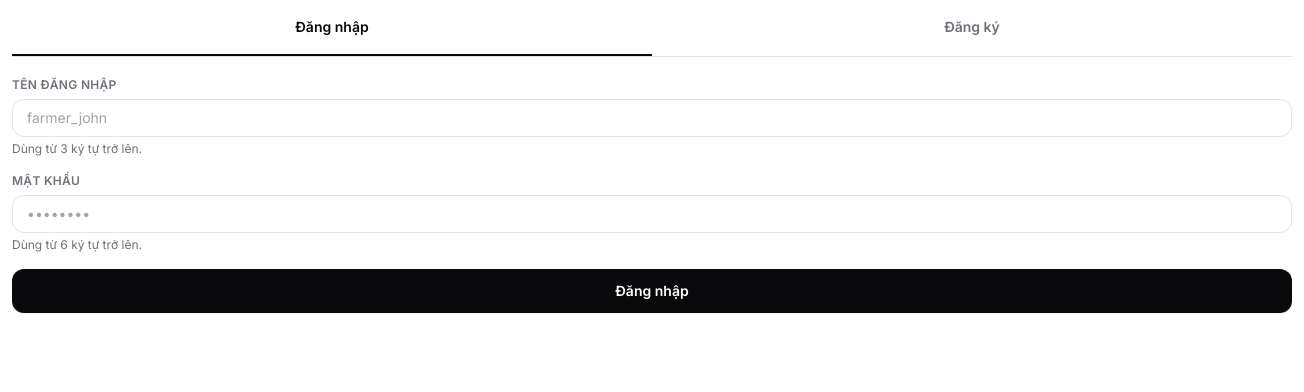
Test case: AuthForm › closes only after successful login and localizes invalid credentials
Type "farmer" into the field labelled "Tên đăng nhập" at coordinates (652, 118), box [12,99,1292,137]
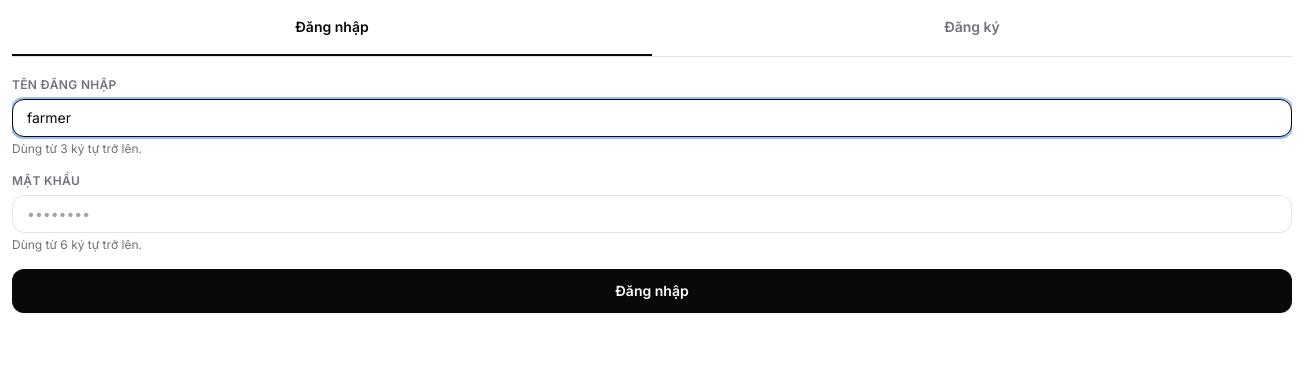
Type "secret1" into the password field labelled "Mật khẩu" at coordinates (652, 214), box [12,195,1292,233]
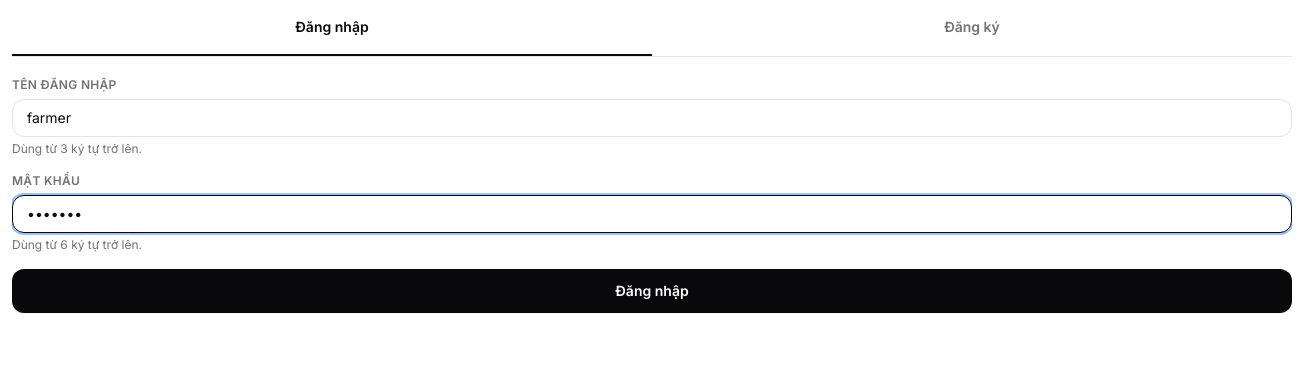
Click the button "Đăng nhập" below "Dùng từ 6 ký tự trở lên." at coordinates (652, 291), box [12,269,1292,313]
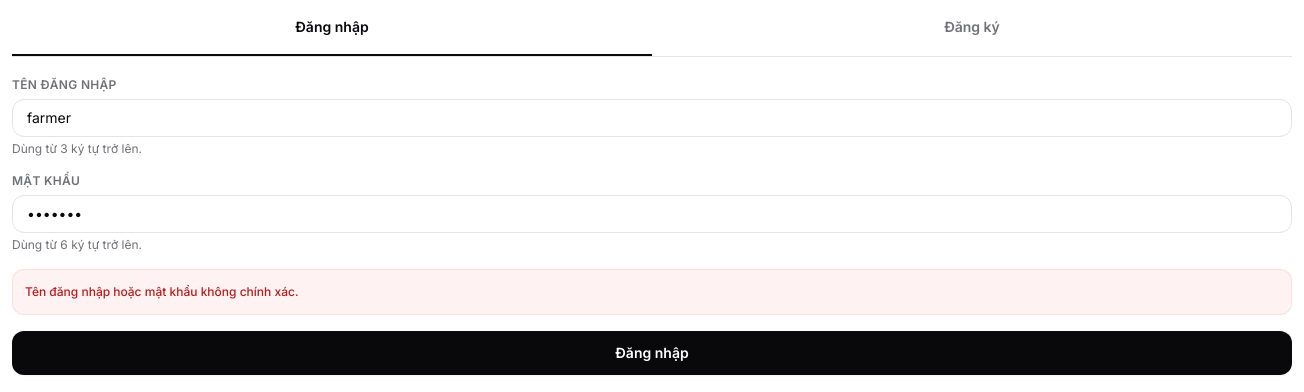
Result: the message reads "Tên đăng nhập hoặc mật khẩu không chính xác." at [25,284,298,299]
